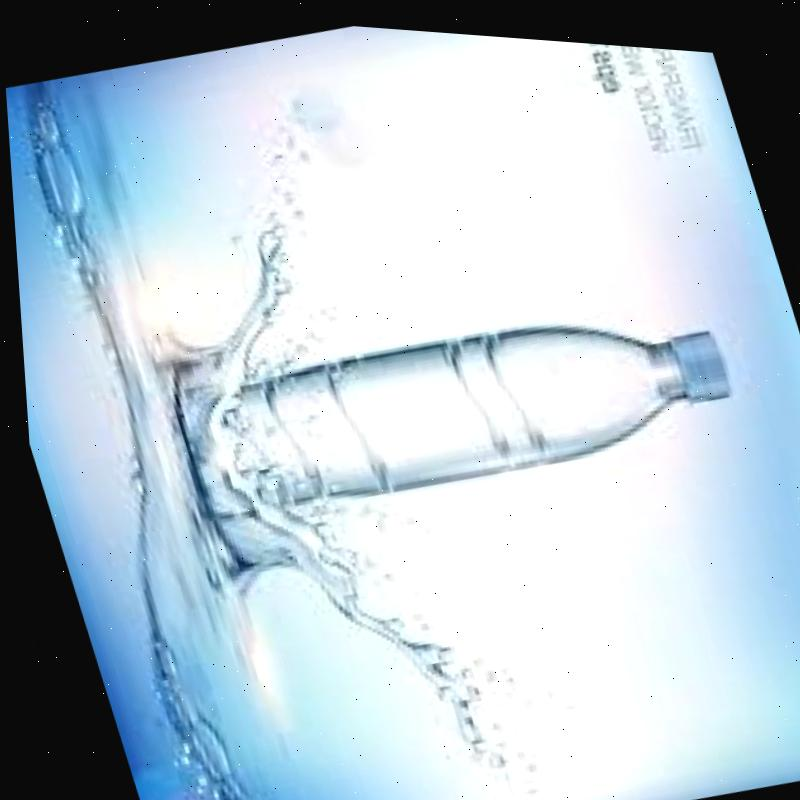botella: (180, 251, 745, 540)
